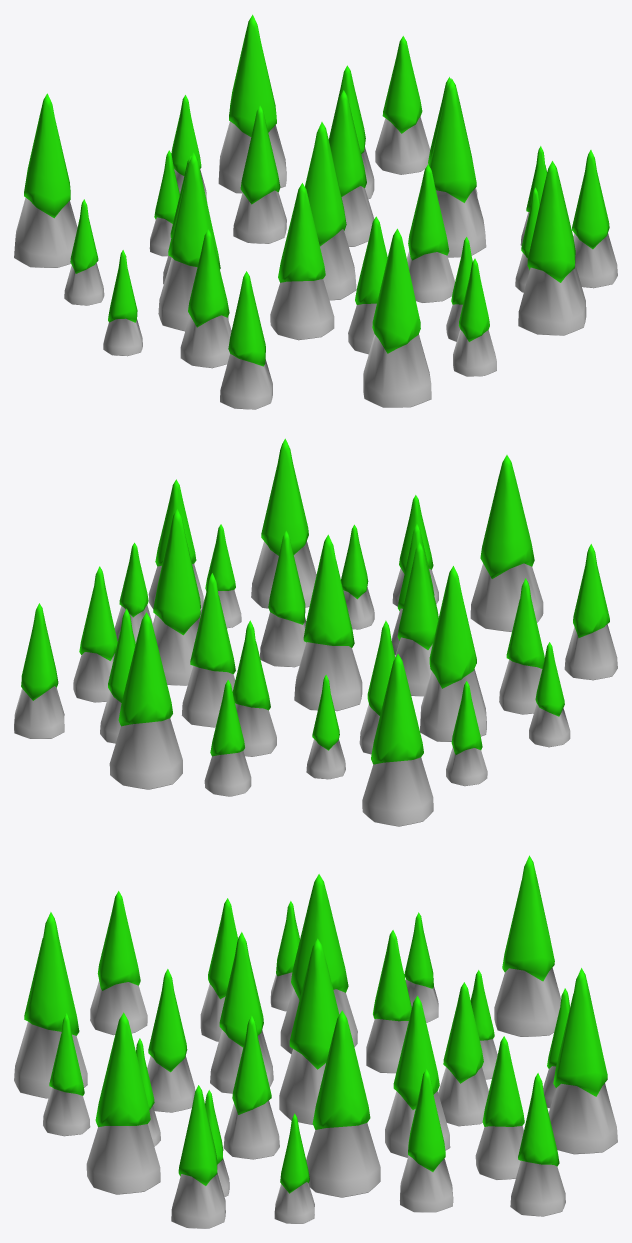
Rendered from Spikes_new.fbx.
3 views of the same model, one above another, from view 1: azimuth 30°, elevation 25°; view 2: azimuth 150°, elevation 25°; view 3: azimuth 270°, elevation 25° (orthographic). The views are drawn at different scales.
Parts seen in each view (by area): view 1: Fang; view 2: Fang; view 3: Fang.
Boxes of the visible parts, x1=… form: Fang: x1=14, y1=14, x2=617, y2=409; Fang: x1=14, y1=438, x2=617, y2=826; Fang: x1=14, y1=855, x2=617, y2=1228.
Bounding box in the file's own units: 90.64 × 30.89 × 98.52.
